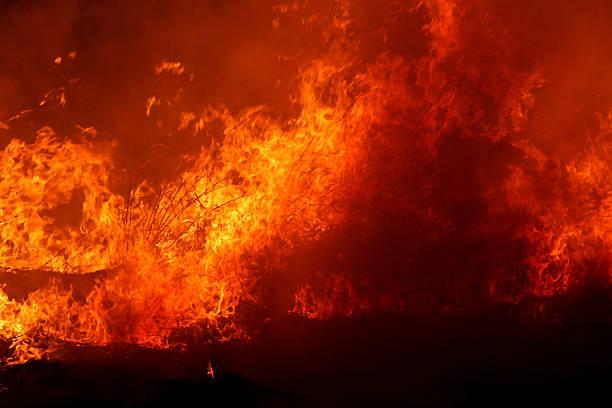Fire: (177, 129, 274, 248), (10, 143, 56, 264), (304, 116, 348, 219), (19, 300, 72, 337)
